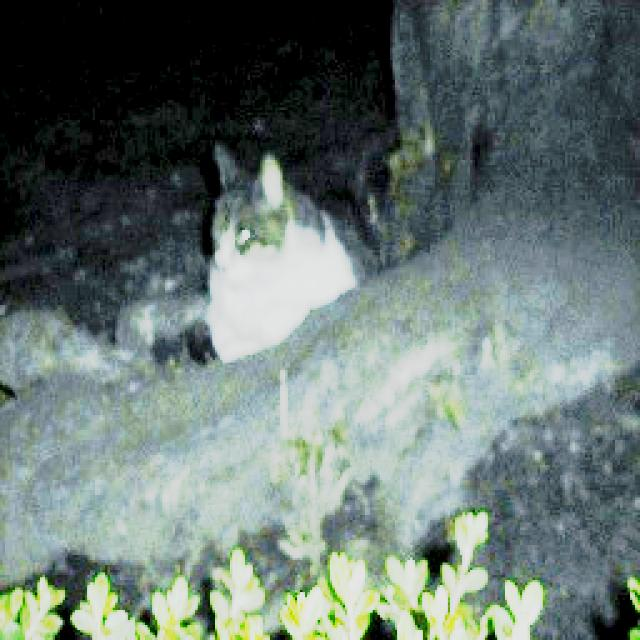cat: (201, 140, 381, 363)
